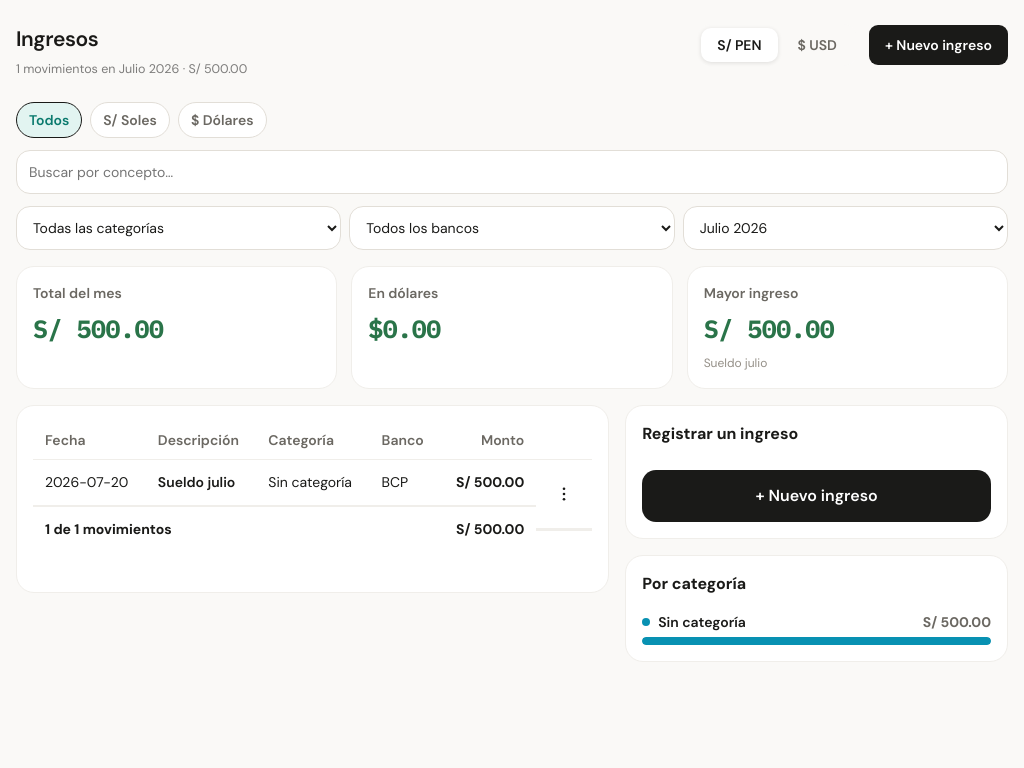
Test case: IngresosView (HU-11.3) › editar y eliminar ingreso (HU-11.3 / HU-11.4) › pide confirmación antes de borrar: clic en "×" abre el diálogo pero no borra de inmediato
The width and height of the screenshot is (1024, 768).
Step 1. Click the button with class "boton-menu-acciones" → (564, 494), box [542,472,586,516]
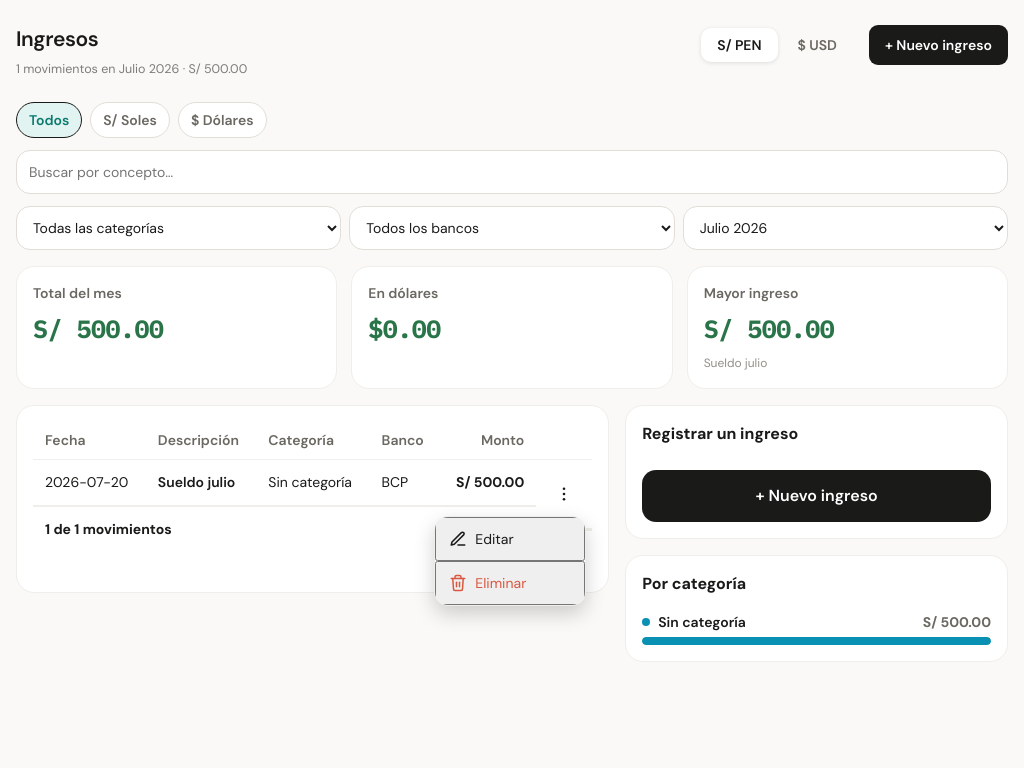
Step 2. Click the menu item with class "boton-eliminar" → (510, 583), box [435,561,585,605]
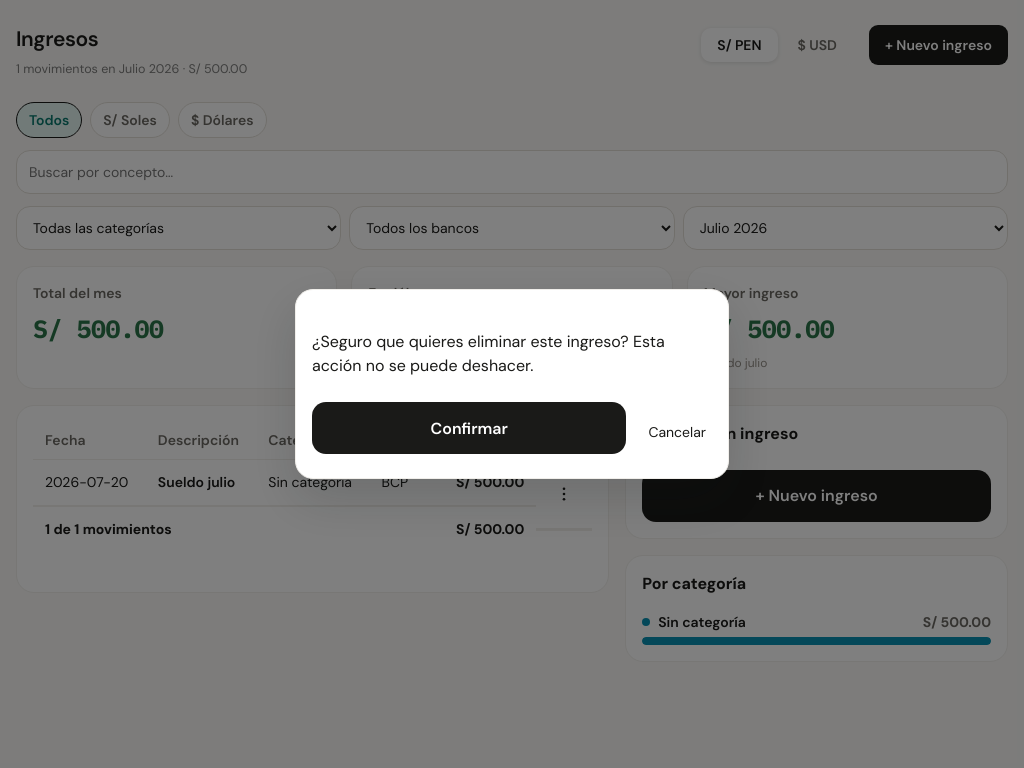
Expected: the dialog is shown, [295,289,729,479]
